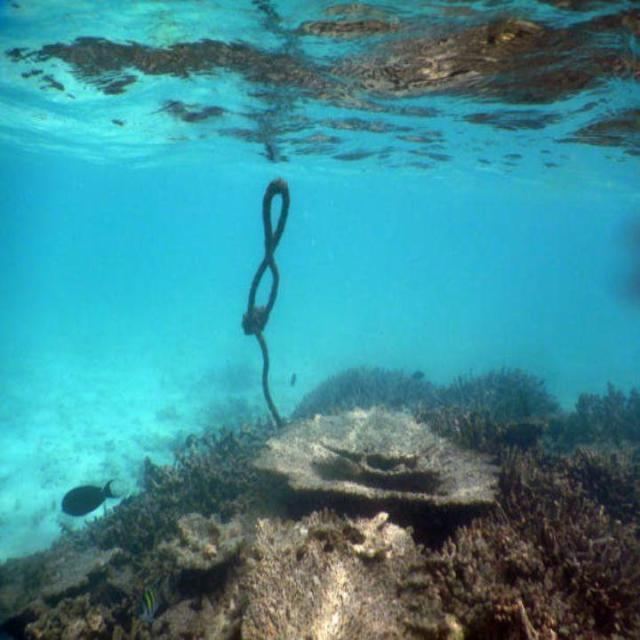Dead Coral: (255, 395, 504, 520), (247, 516, 465, 635), (511, 444, 640, 640), (139, 513, 238, 640)
